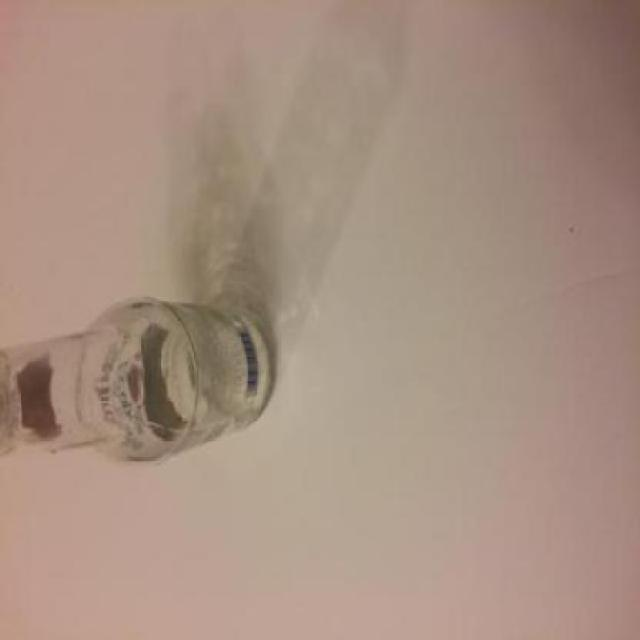kaca: (0, 294, 272, 463)
